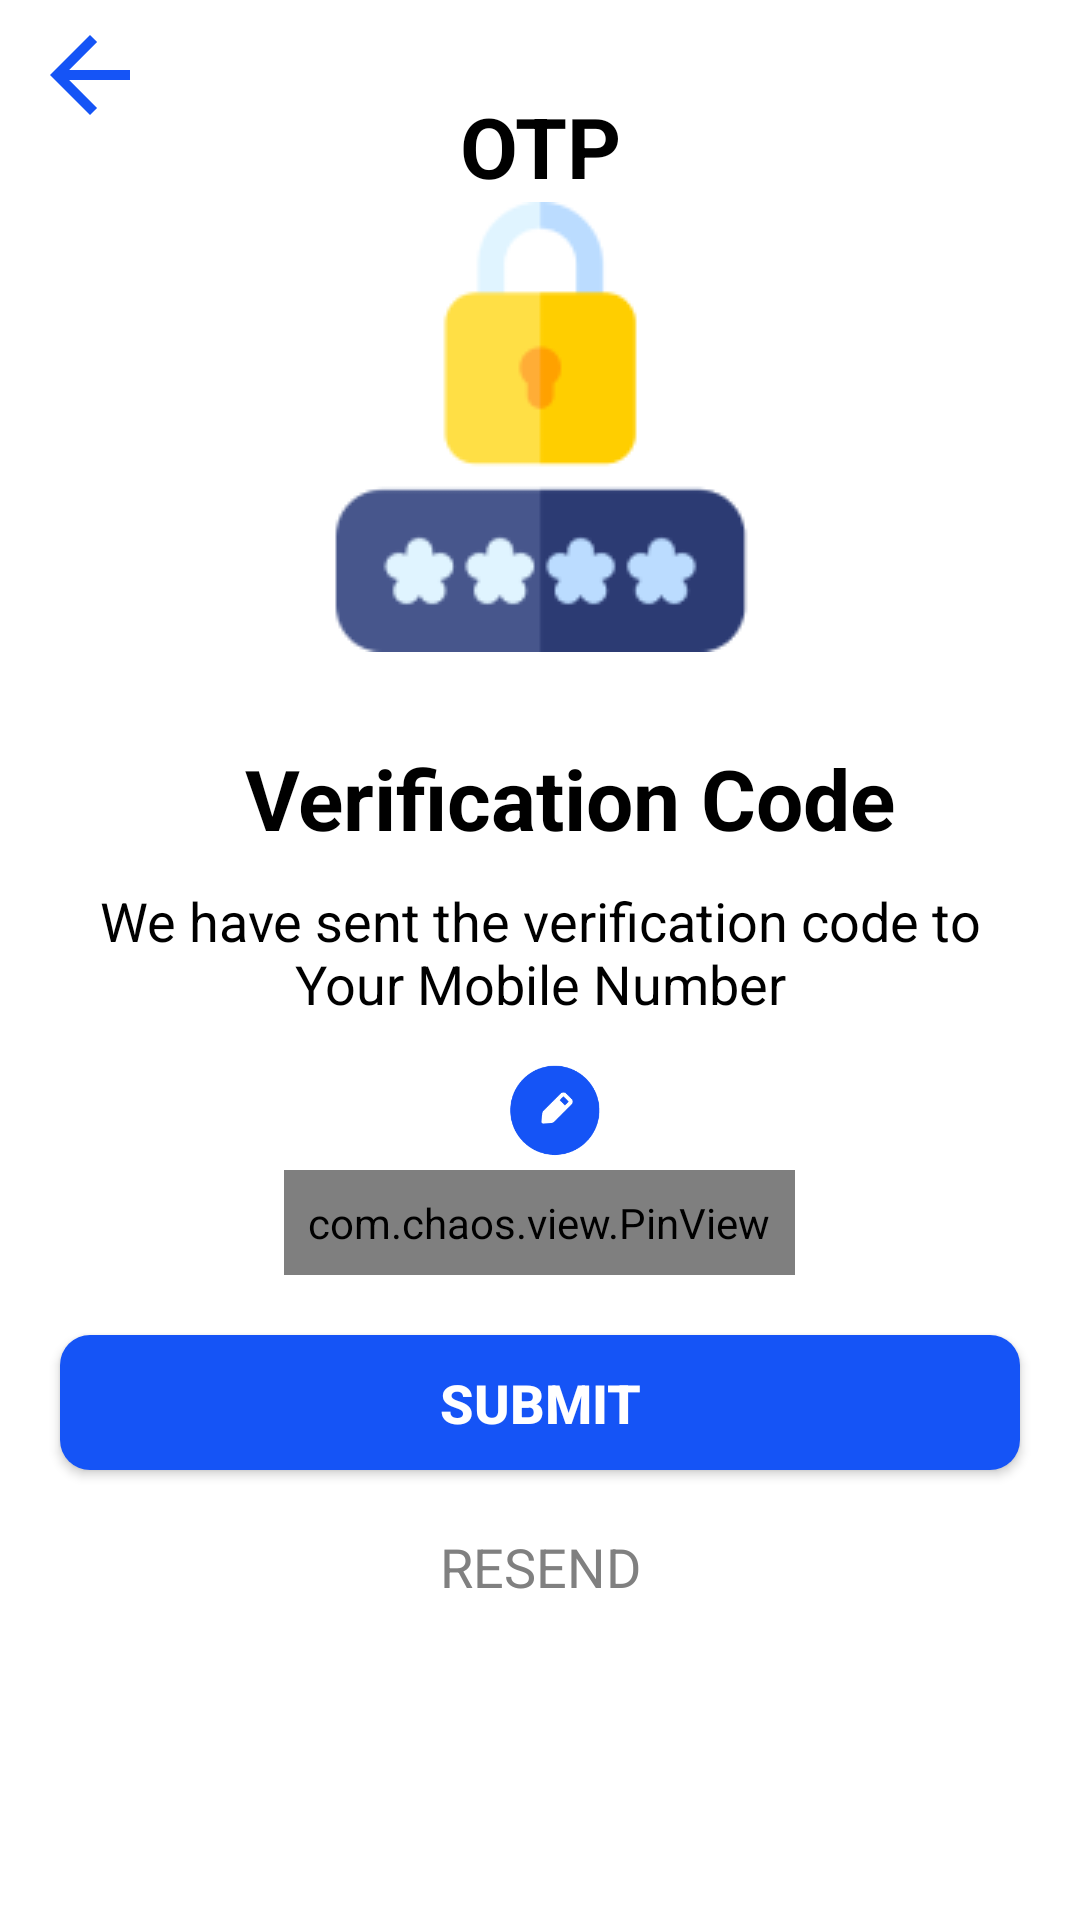

Where to tap for icons on this 1080px×1920px app screen, as point (x, y):
arrow back: point (90, 75)
edit: point (555, 1110)
